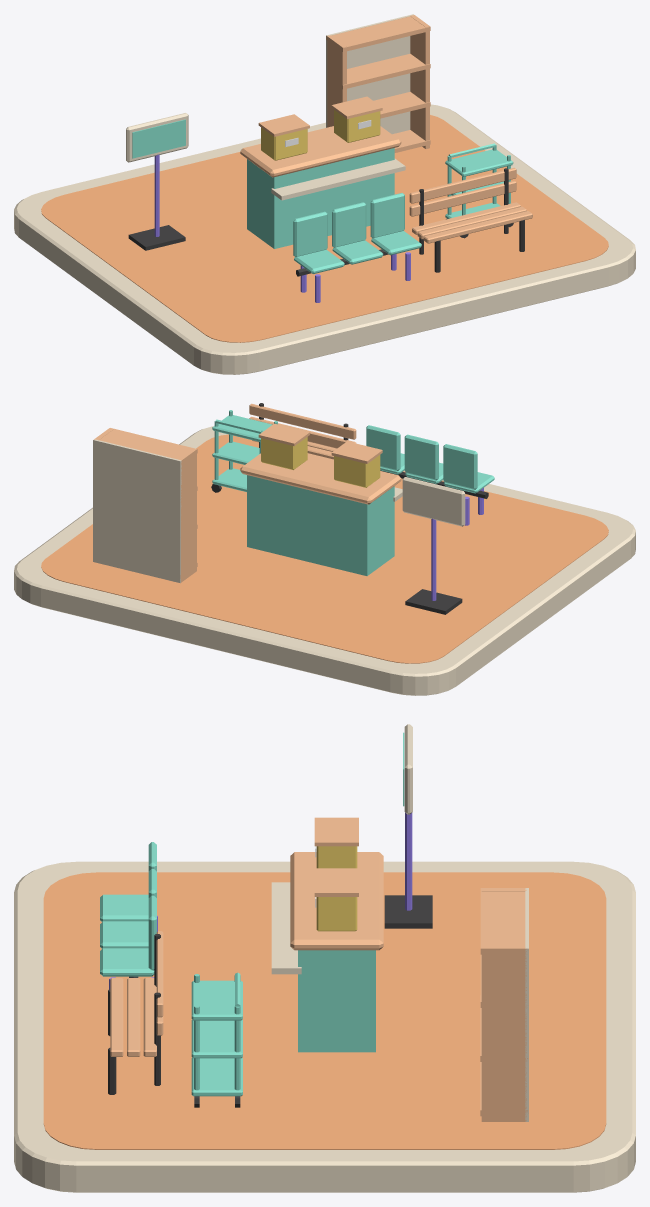
File: room.fbx
The picture shows the model from 3 angles, top to bottom: view 1: azimuth 30°, elevation 25°; view 2: azimuth 150°, elevation 25°; view 3: azimuth 270°, elevation 25°; orthographic projection. The views are drawn at different scales.
Parts seen in each view (by area): view 1: COM-02 Floor Surface, COM-01 Rounded Base Direct, Counter body, Countertop, Back.003, Side.001, Visitor shelf, Shelf.003, Shelf.002, Inset, Back.001, Back.002 (+18 smaller); view 2: COM-02 Floor Surface, COM-01 Rounded Base Direct, Back.003, Counter body, Countertop, Sign panel, Side, Back, Back.001, Shelf.003, Back slat.001, Box (+10 smaller); view 3: COM-02 Floor Surface, COM-01 Rounded Base Direct, Counter body, Side.001, Countertop, Shelf.003, Visitor shelf, Tray.002, Tray, Tray.001, Foot, Box.001 (+12 smaller).
Part boxes in pixels (<box>): COM-02 Floor Surface: <box>41,115,608,342</box>; COM-01 Rounded Base Direct: <box>14,104,635,374</box>; Counter body: <box>247,148,394,248</box>; Countertop: <box>240,126,401,177</box>; Back.003: <box>326,14,413,134</box>; Side.001: <box>410,15,429,148</box>; Visitor shelf: <box>271,158,405,200</box>; Shelf.003: <box>326,16,430,52</box>; Shelf.002: <box>327,53,430,89</box>; Inset: <box>132,119,185,158</box>; Back.001: <box>332,202,366,247</box>; Back.002: <box>370,193,404,238</box>; COM-02 Floor Surface: <box>41,434,608,663</box>; COM-01 Rounded Base Direct: <box>14,426,635,695</box>; Back.003: <box>93,439,181,583</box>; Counter body: <box>247,475,394,575</box>; Countertop: <box>240,453,401,504</box>; Sign panel: <box>402,477,465,526</box>; Side: <box>178,448,196,582</box>; Back: <box>443,444,477,489</box>; Back.001: <box>404,434,438,480</box>; Shelf.003: <box>99,428,197,464</box>; Back slat.001: <box>249,403,356,439</box>; Box: <box>334,455,380,487</box>; COM-02 Floor Surface: <box>43,872,606,1149</box>; COM-01 Rounded Base Direct: <box>14,861,635,1192</box>; Counter body: <box>298,950,375,1052</box>; Side.001: <box>481,945,526,1121</box>; Countertop: <box>290,852,383,950</box>; Shelf.003: <box>480,888,527,954</box>; Visitor shelf: <box>271,882,301,974</box>; Tray.002: <box>191,980,242,1020</box>; Tray: <box>191,1057,242,1096</box>; Tray.001: <box>191,1019,242,1058</box>; Foot: <box>384,895,432,928</box>; Box.001: <box>316,897,357,931</box>.
Size of the model in its own units: 600 by 190 by 520.
